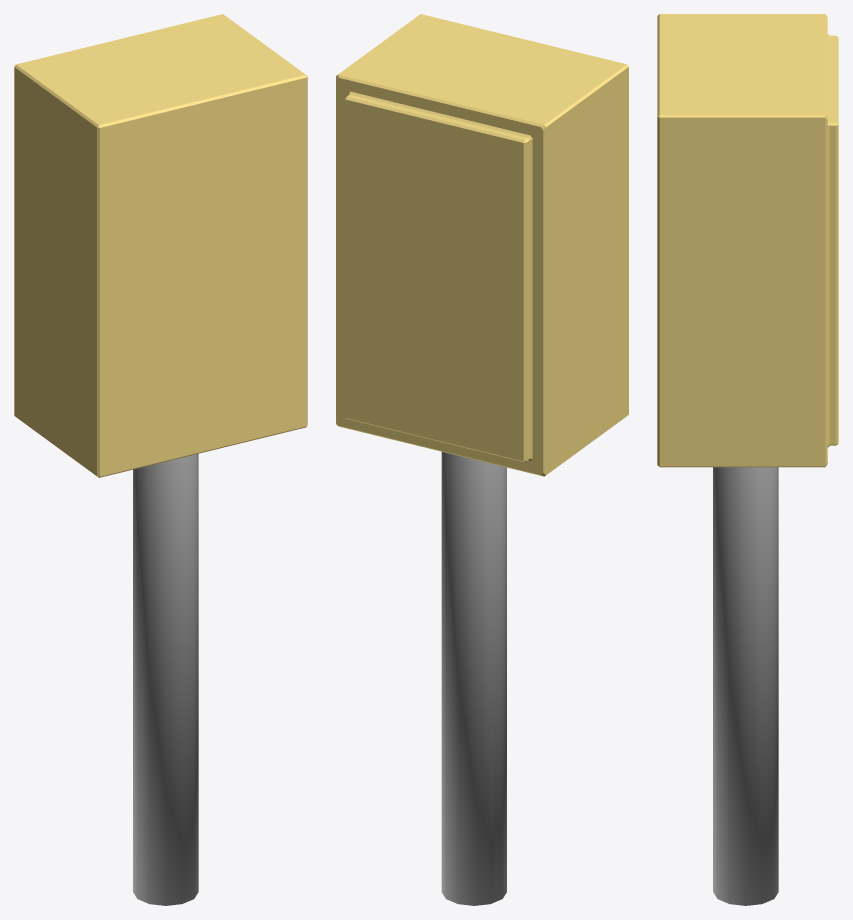
File: electricbox02.fbx
3 renders of one model, left to right at view 1: azimuth 30°, elevation 25°; view 2: azimuth 150°, elevation 25°; view 3: azimuth 270°, elevation 25°, orthographic.
Parts seen in each view (by area): view 1: electricbox02; view 2: electricbox02; view 3: electricbox02.
Boxes of the visible parts, left/top/right/bottom form: electricbox02: left=14, top=14, right=307, bottom=905; electricbox02: left=336, top=14, right=628, bottom=905; electricbox02: left=657, top=14, right=838, bottom=905.
Bounding box in the file's own units: 10 × 37.44 × 7.45.
